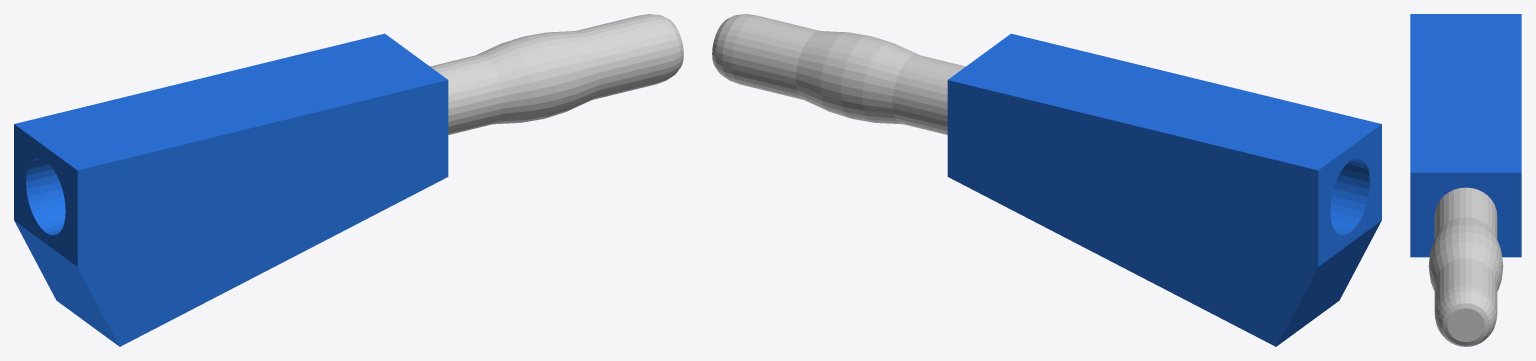
File: blueBananaCable.glb
3 renders of one model, left to right at view 1: azimuth 30°, elevation 25°; view 2: azimuth 150°, elevation 25°; view 3: azimuth 270°, elevation 25°, orthographic. The views are drawn at different scales.
Parts seen in each view (by area): view 1: Cylinder.006; view 2: Cylinder.006; view 3: Cylinder.006.
Part boxes in pixels (x1,y1,x2,y2): Cylinder.006: (14, 14, 683, 346); Cylinder.006: (712, 14, 1381, 346); Cylinder.006: (1410, 14, 1521, 346).
Size of the model in its own units: 0.0456 by 0.013 by 0.008.
